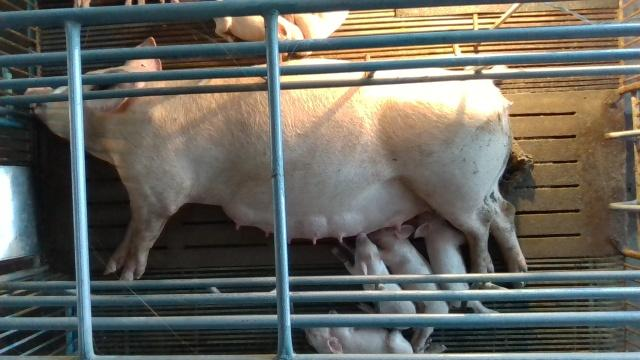piglet: (370, 224, 450, 353), (414, 210, 498, 313), (331, 232, 417, 329), (302, 308, 413, 354), (214, 15, 311, 60)
sow-sleep-lactate: (27, 37, 529, 285)
